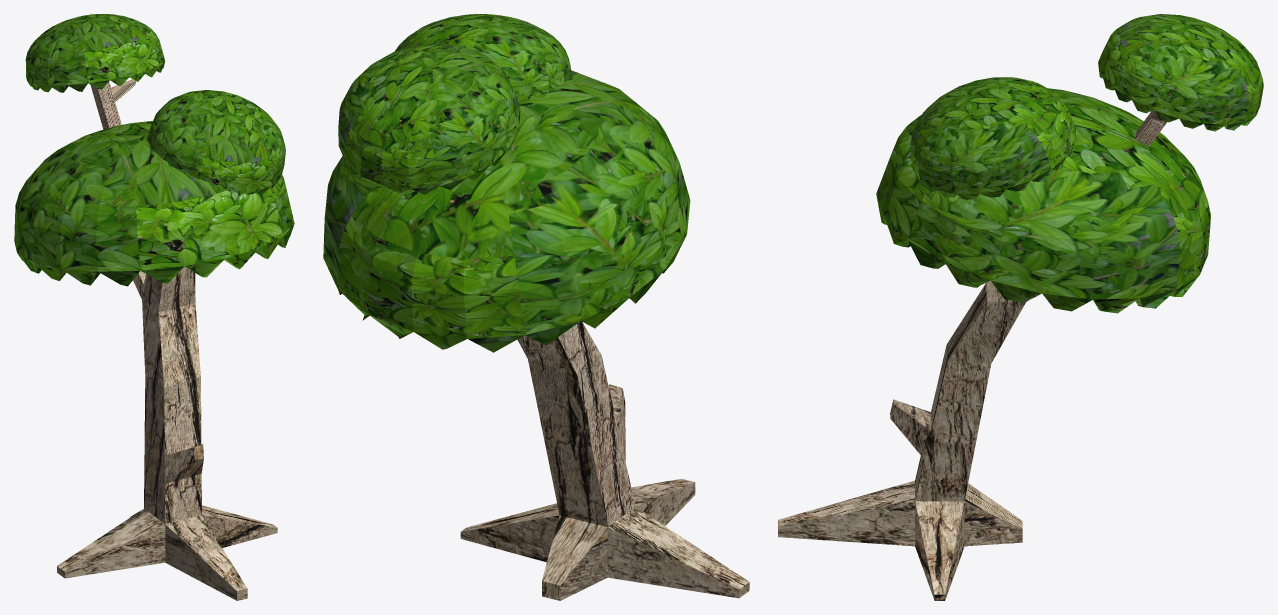
File: tree3.fbx
3 views of the same model, side by side, from view 1: azimuth 30°, elevation 25°; view 2: azimuth 150°, elevation 25°; view 3: azimuth 270°, elevation 25° (orthographic). The views are drawn at different scales.
Visible parts, largest first — view 1: pSphere1, pCube1, pSphere3, pSphere2, pCube2; view 2: pSphere1, pCube1, pSphere2, pSphere3; view 3: pSphere1, pCube1, pSphere3, pSphere2.
Boxes of the visible parts, x1=… form: pSphere1: x1=14, y1=121, x2=294, y2=286; pCube1: x1=57, y1=266, x2=277, y2=600; pSphere3: x1=147, y1=90, x2=285, y2=194; pSphere2: x1=25, y1=14, x2=165, y2=92; pCube2: x1=90, y1=79, x2=135, y2=129; pSphere1: x1=323, y1=70, x2=690, y2=352; pCube1: x1=460, y1=321, x2=749, y2=600; pSphere2: x1=338, y1=43, x2=520, y2=194; pSphere3: x1=394, y1=14, x2=571, y2=101; pSphere1: x1=876, y1=88, x2=1210, y2=313; pCube1: x1=778, y1=281, x2=1040, y2=600; pSphere3: x1=910, y1=77, x2=1076, y2=199; pSphere2: x1=1098, y1=14, x2=1263, y2=131.
Bounding box in the file's own units: 7.03 × 11.86 × 9.8.
2 materials, 2 textured.
